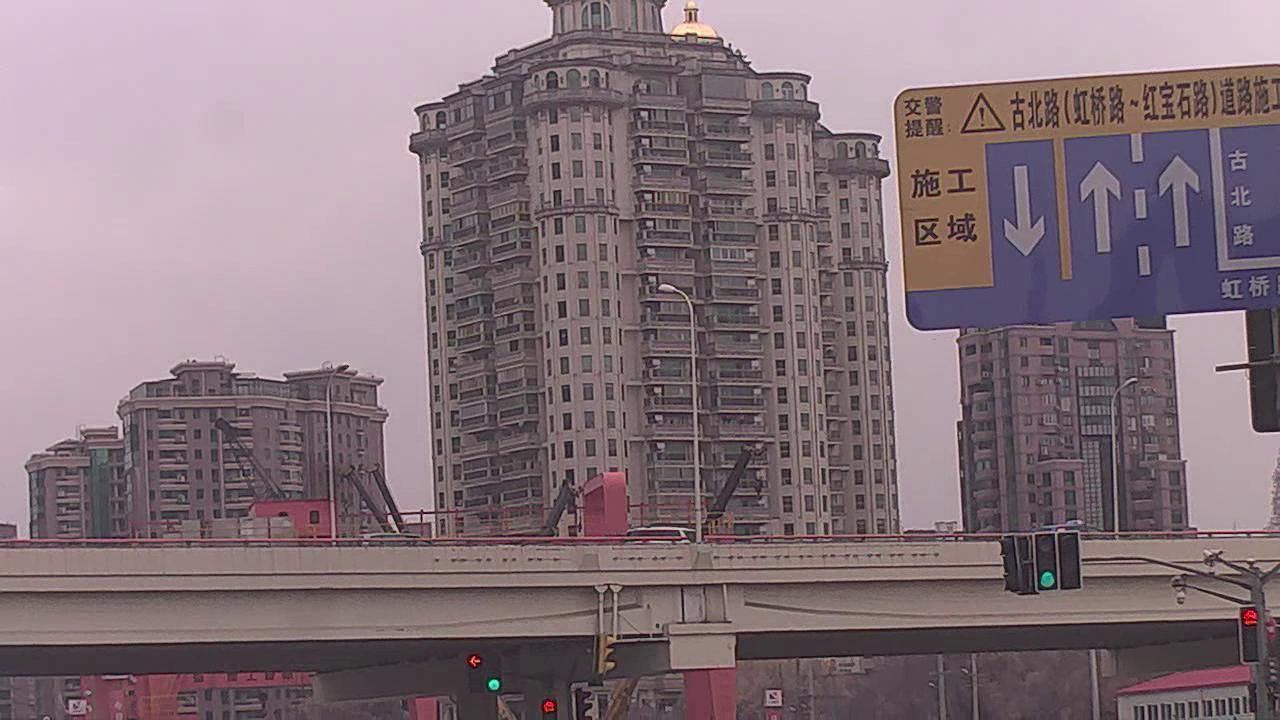traffic_light: (1034, 530, 1060, 591), (1240, 606, 1264, 664), (1059, 532, 1079, 594), (482, 646, 502, 693), (466, 652, 483, 695), (540, 697, 557, 720)
